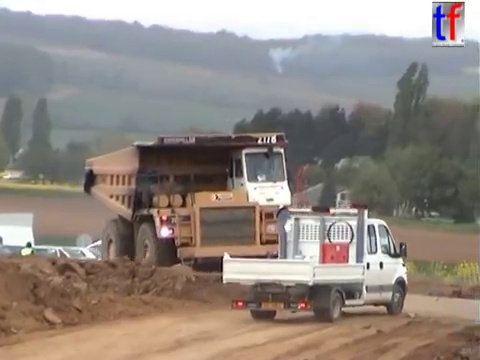truck: (80, 129, 311, 289), (218, 201, 411, 323)
worker: (18, 240, 36, 279)
